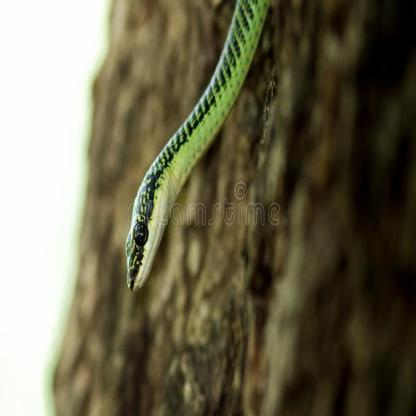Snake: (124, 2, 274, 295)
